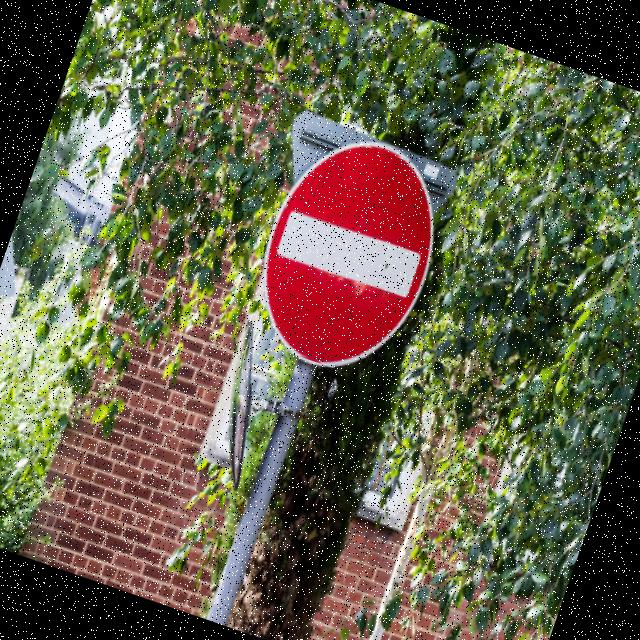do_not_enter: (231, 110, 468, 396)
